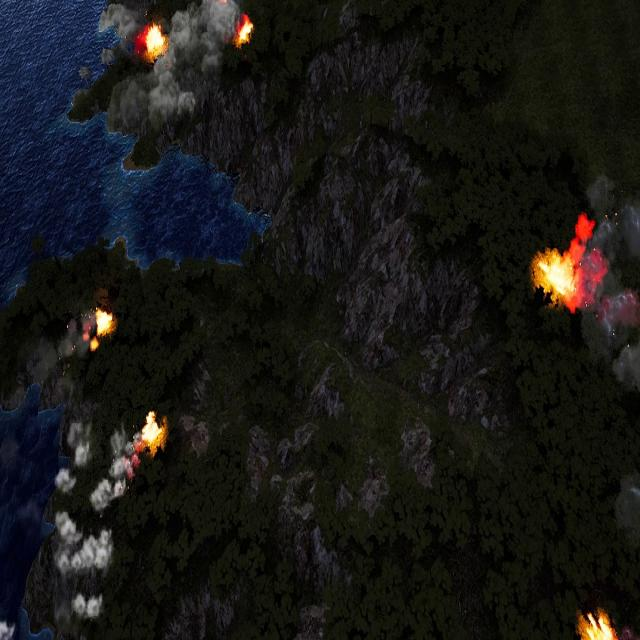fire: (536, 246, 582, 305), (137, 412, 165, 456), (580, 612, 619, 640), (144, 25, 167, 58), (233, 14, 251, 48), (98, 310, 116, 340)
smoke: (53, 416, 142, 633), (575, 168, 640, 391), (142, 0, 237, 116), (36, 302, 100, 382), (611, 468, 640, 544)
